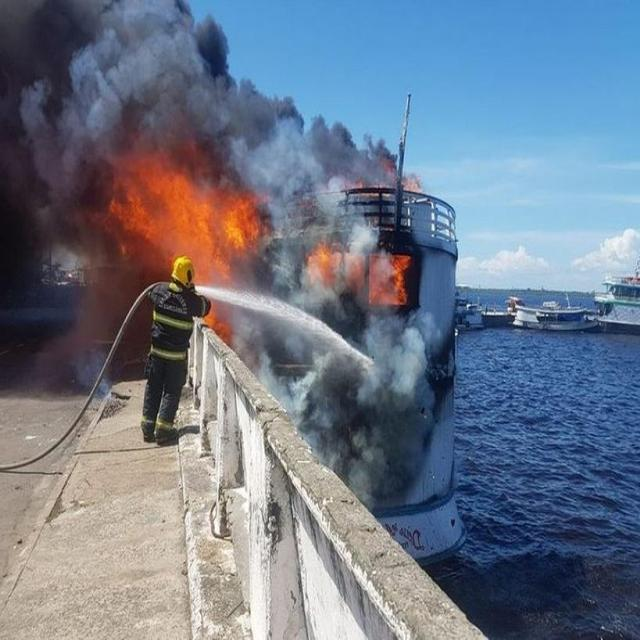fire: (99, 131, 272, 289)
